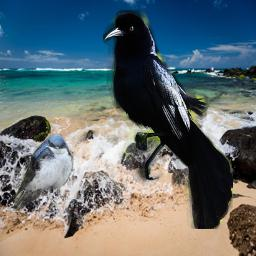Crow: (103, 10, 233, 229)
Swallow: (11, 133, 74, 211)
